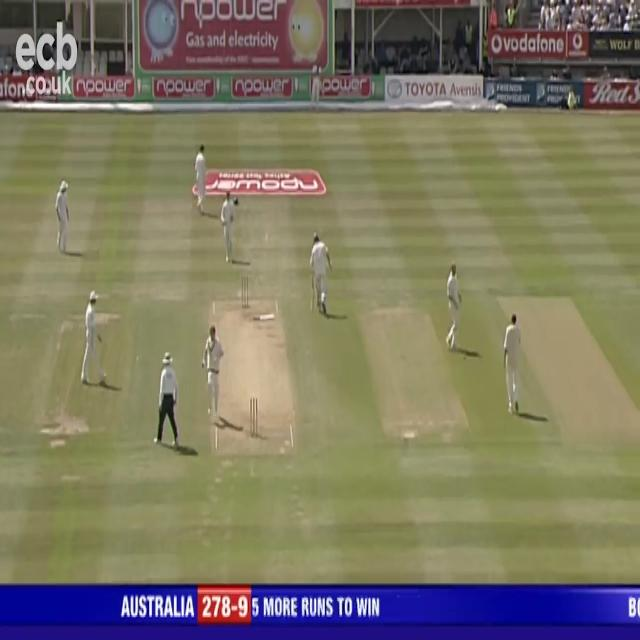ball: (460, 352, 469, 362)
